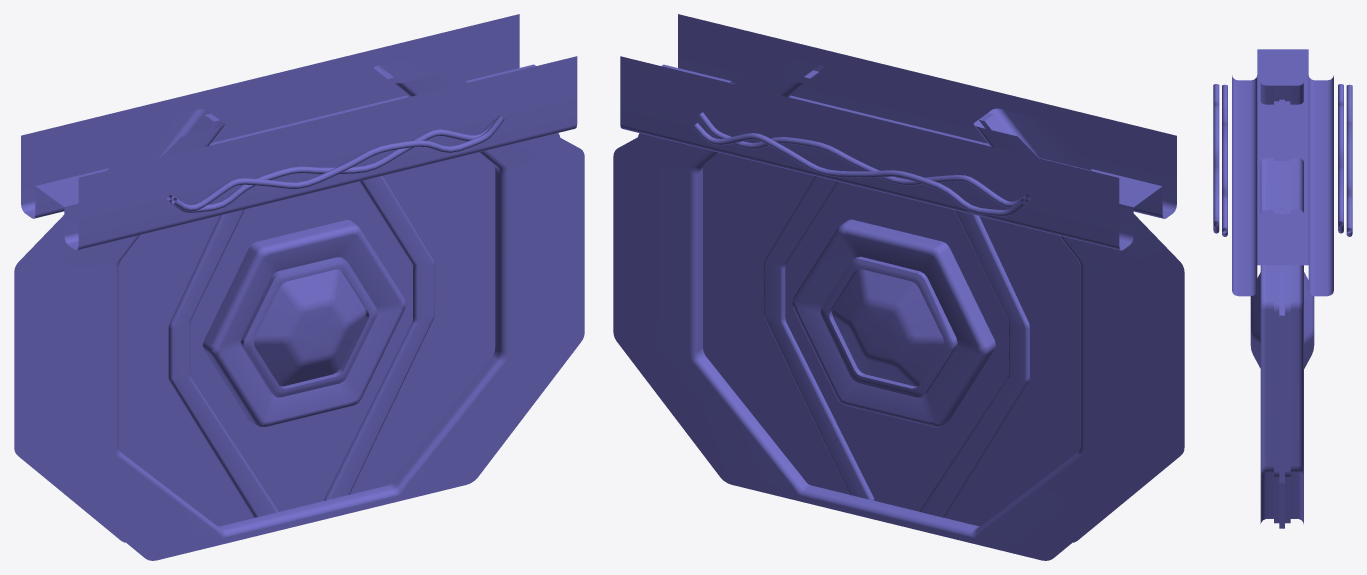
The model's file is tür.fbx.
3 renders of one model, left to right at view 1: azimuth 30°, elevation 25°; view 2: azimuth 150°, elevation 25°; view 3: azimuth 270°, elevation 25°, orthographic. The views are drawn at different scales.
Visible parts, largest first — view 1: türrahmen, tür1; view 2: türrahmen, tür1; view 3: türrahmen, tür1.
Boxes of the visible parts, x1,y1,x2,y2 form: türrahmen: (14, 14, 584, 560); tür1: (118, 152, 495, 526); türrahmen: (613, 14, 1184, 560); tür1: (703, 152, 1080, 526); türrahmen: (1213, 49, 1352, 524); tür1: (1250, 99, 1314, 528).
Size of the model in its own units: 5.48 by 4 by 1.36.
